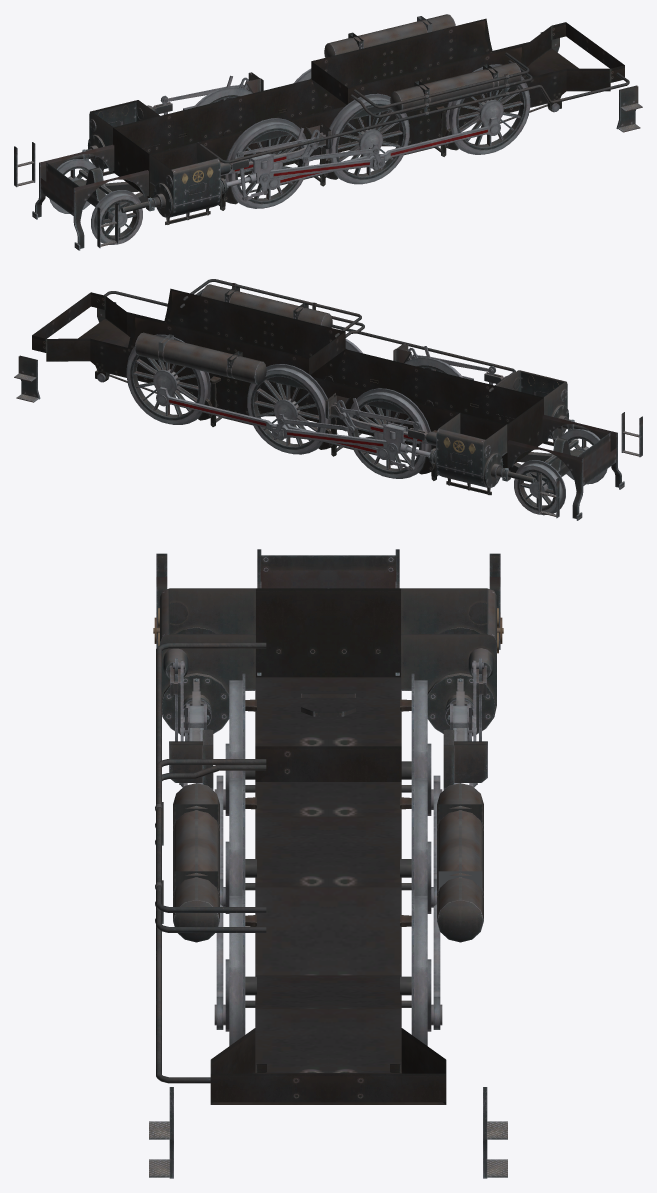
Rendered from Trainbottom1.fbx.
3 renders of one model, top to bottom at view 1: azimuth 30°, elevation 25°; view 2: azimuth 150°, elevation 25°; view 3: azimuth 270°, elevation 25°, orthographic. The views are drawn at different scales.
Parts seen in each view (by area): view 1: SM_a_006_Locomotive_01d; view 2: SM_a_006_Locomotive_01d; view 3: SM_a_006_Locomotive_01d.
Part boxes in pixels (x1=…): SM_a_006_Locomotive_01d: x1=14, y1=14, x2=642, y2=250; SM_a_006_Locomotive_01d: x1=14, y1=279, x2=642, y2=520; SM_a_006_Locomotive_01d: x1=149, y1=549, x2=507, y2=1178.
Bounding box in the file's own units: 1477 × 251 × 422.
4 materials, 4 textured.
